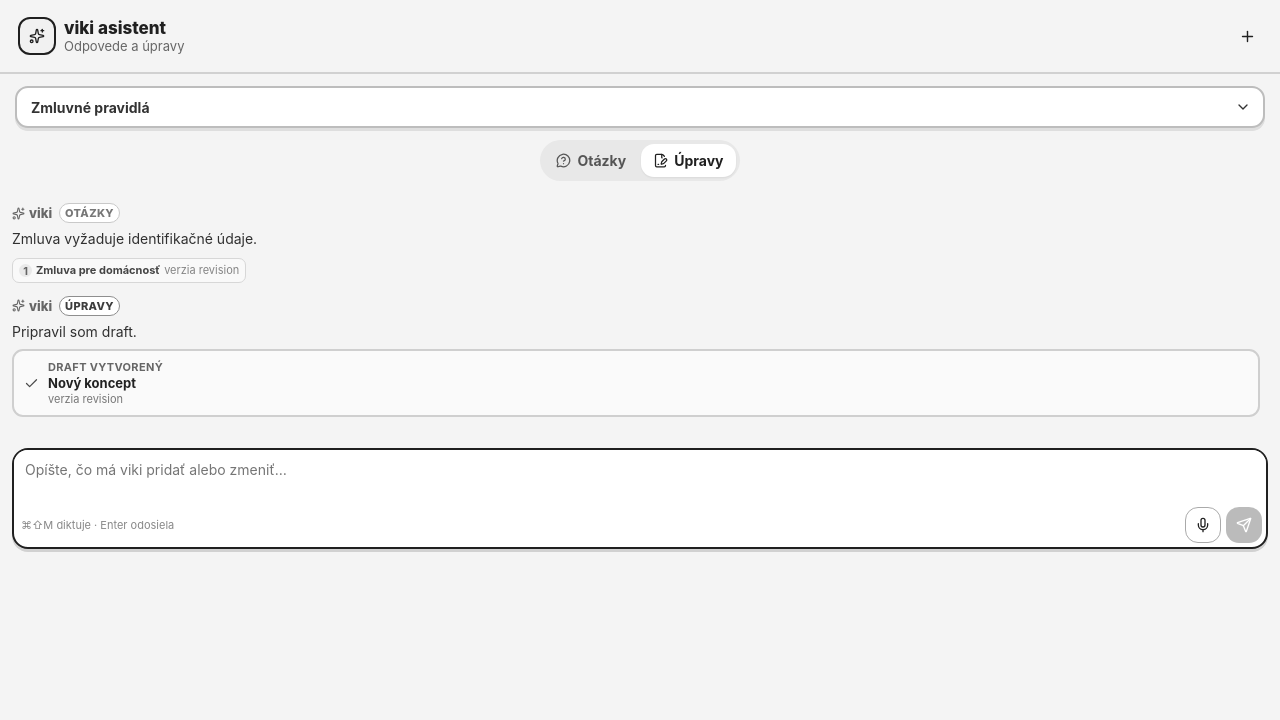
Scenario: AssistantPanel › captures Slovak speech into an editable composer before sending it to Hermes
Expected: the text "Zmluva vyžaduje identifikačné údaje." is shown, 12,230 -> 257,247
Click the button named "Začať hlasový vstup" at (1203, 525), box 1185,507 -> 1221,543
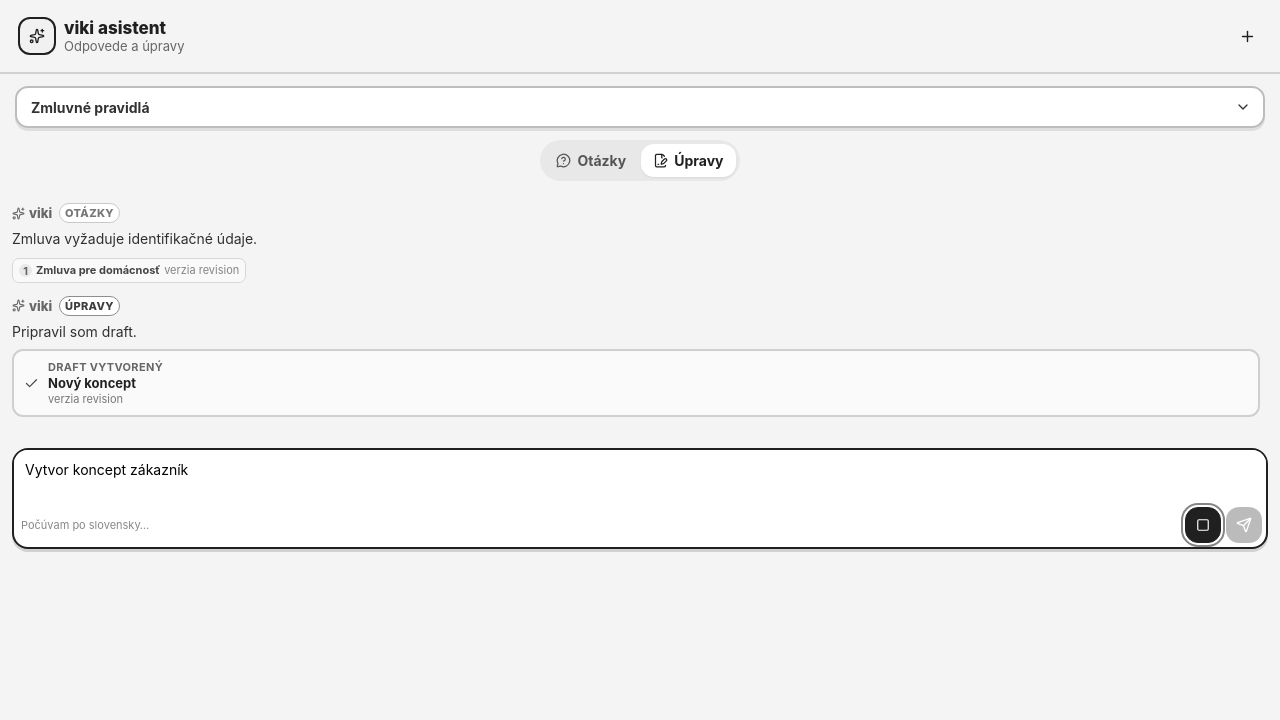
Now the text box with placeholder "Opíšte, čo má viki pridať alebo zmeniť…" holds "Vytvor koncept zákazník", box 14,450 -> 1266,505
Now the text "Počúvam po slovensky…" is shown, box 21,518 -> 149,532
Click the button named "Zastaviť hlasový vstup" at (1203, 525), box 1185,507 -> 1221,543
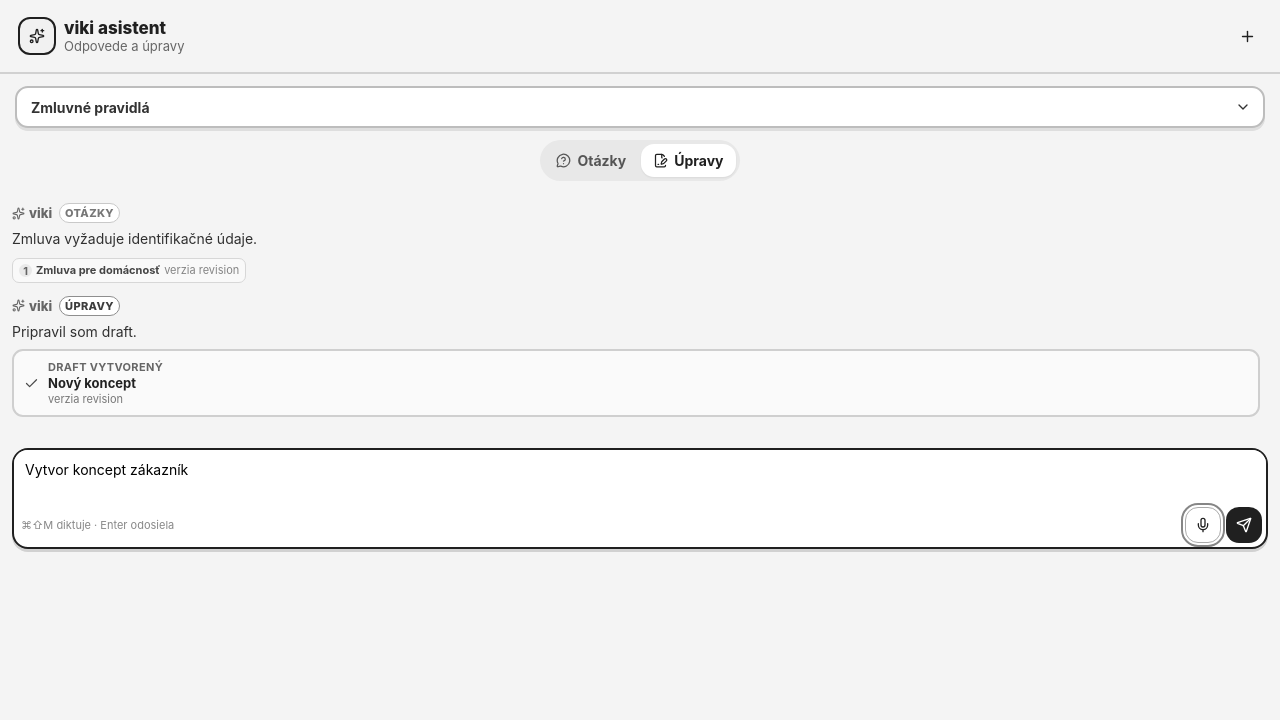
Type " pre zmluvu" into the text box with placeholder "Opíšte, čo má viki pridať alebo zmeniť…" at (640, 478), box 14,450 -> 1266,505
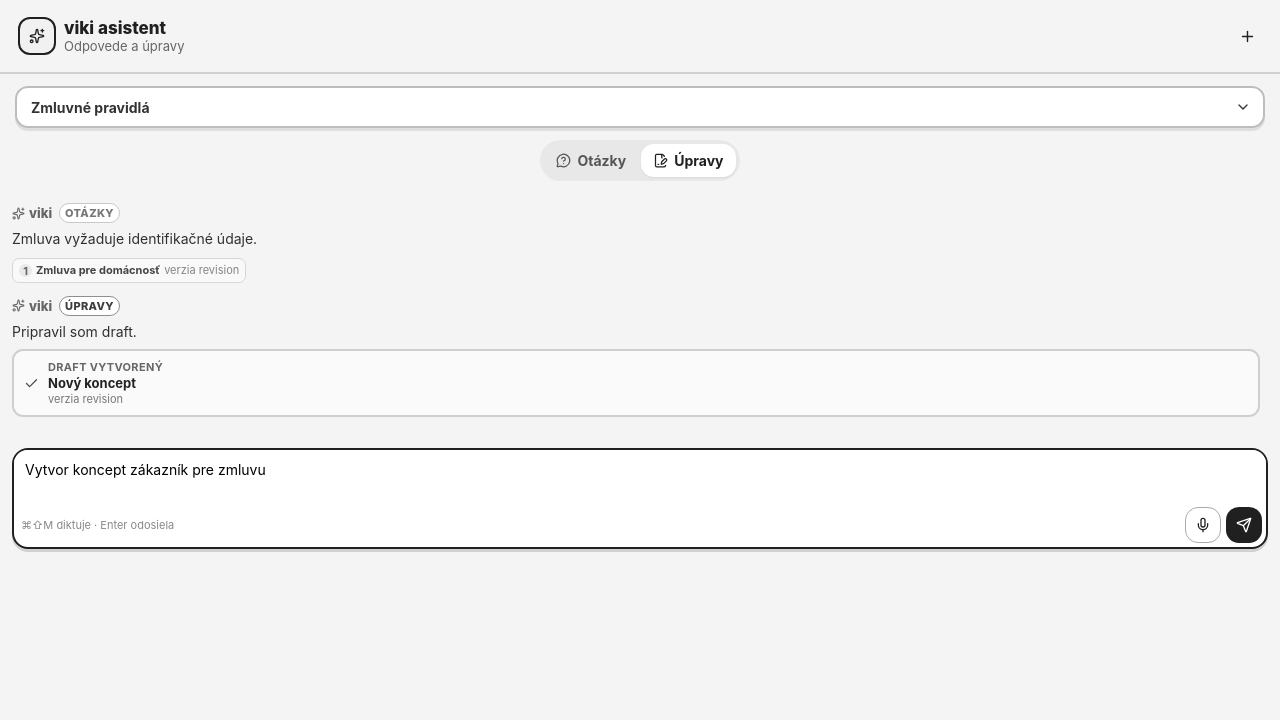
Now the text box with placeholder "Opíšte, čo má viki pridať alebo zmeniť…" holds "Vytvor koncept zákazník pre zmluvu", box 14,450 -> 1266,505
